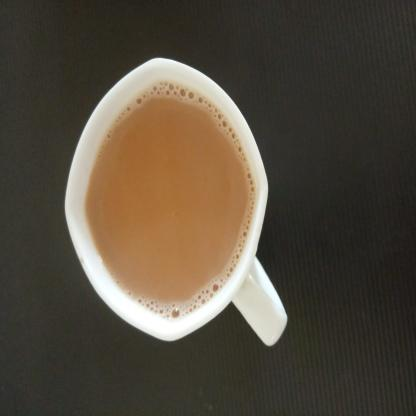cup: (53, 86, 271, 390)
